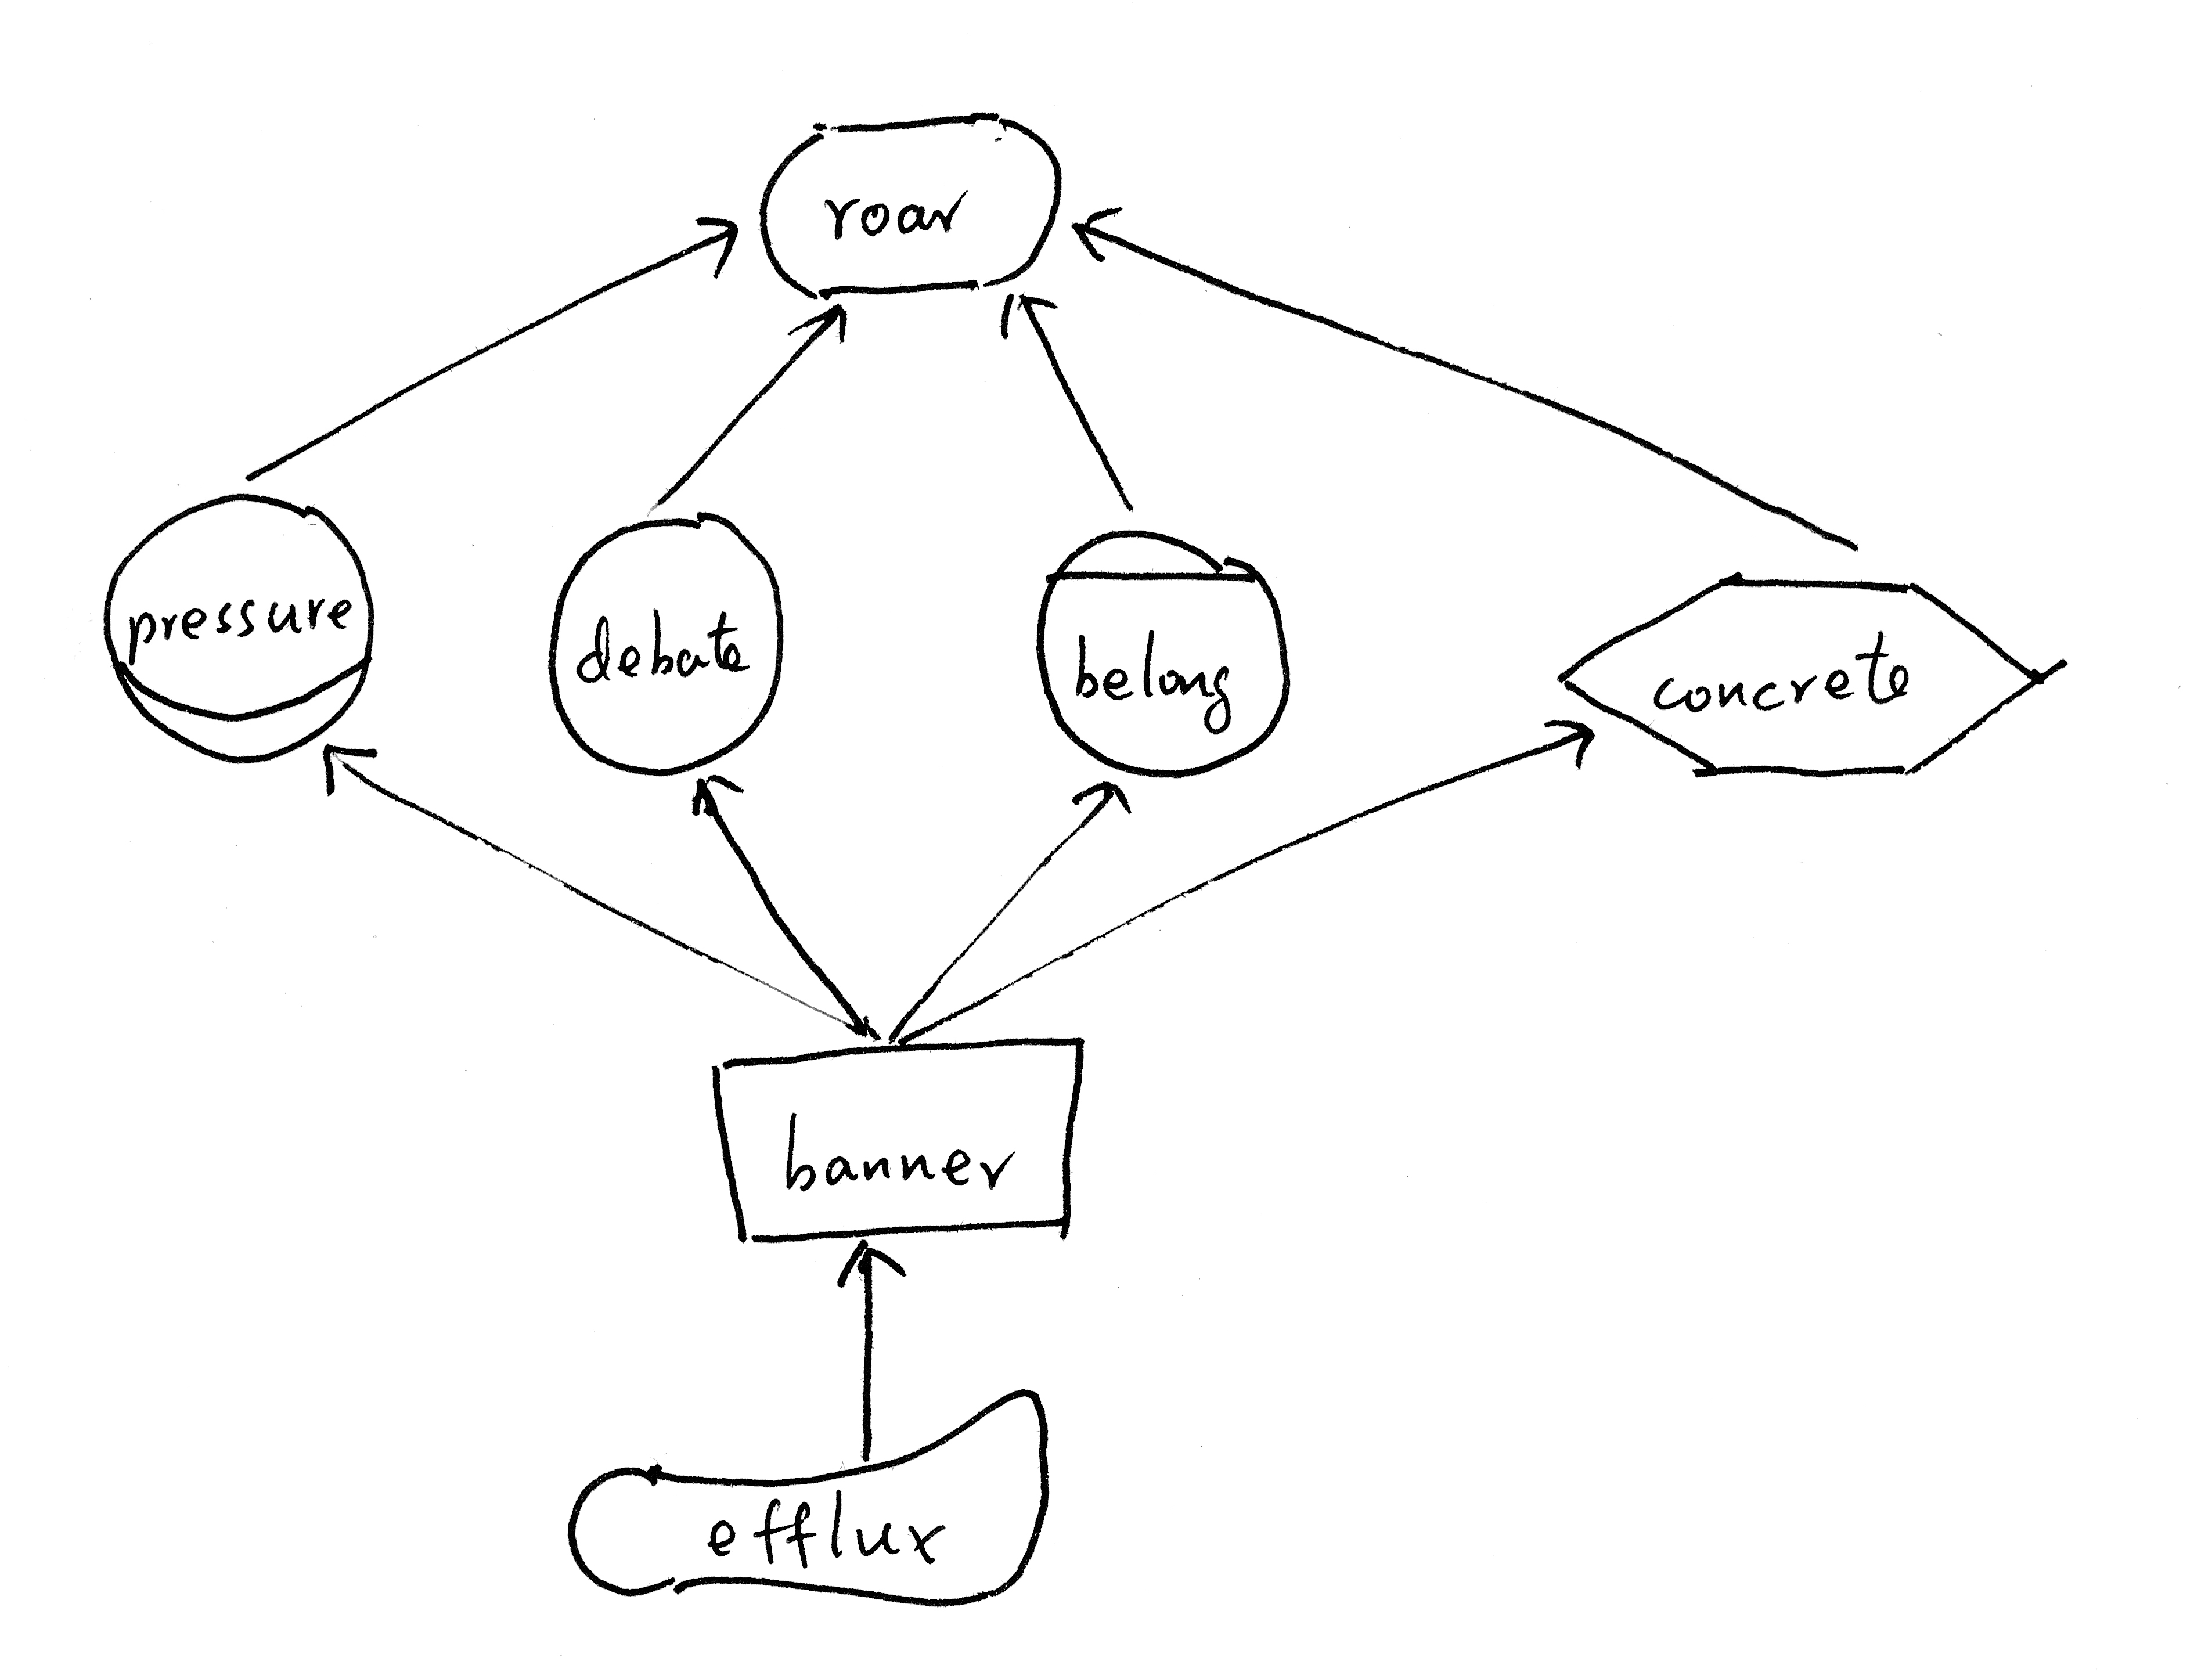actor: (530, 501, 808, 801)
agent: (1016, 513, 1310, 794)
arrow: (820, 1219, 923, 1312), (304, 731, 400, 808), (1527, 692, 1610, 778), (980, 274, 1073, 348), (688, 191, 760, 286), (774, 297, 869, 367), (676, 760, 767, 831), (1066, 195, 1146, 270), (1048, 766, 1138, 829)
goal: (746, 98, 1083, 320)
quality: (551, 1373, 1074, 1614)
resource: (683, 1022, 1108, 1263)
role: (88, 469, 395, 783)
task: (1538, 559, 2089, 803)
